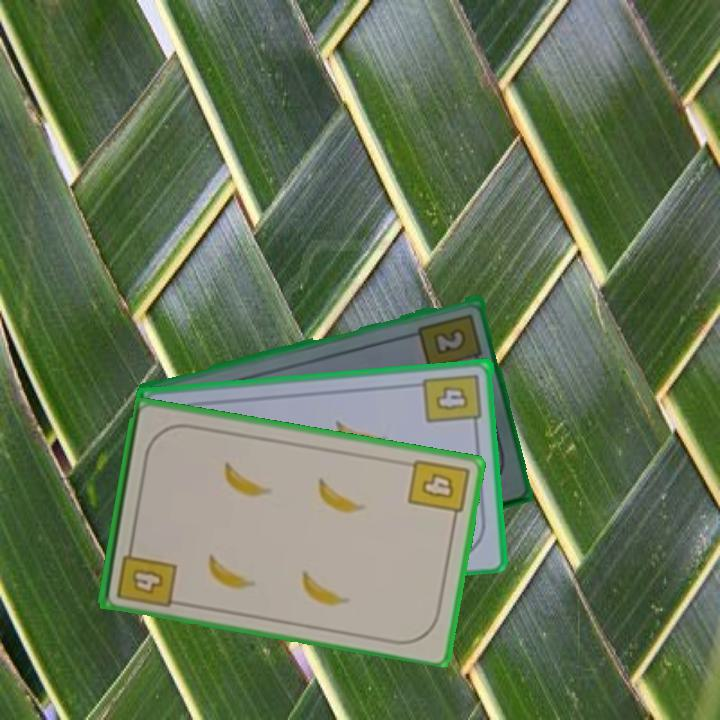2b: (415, 309, 485, 372)
4b: (404, 455, 472, 526), (113, 538, 179, 610), (421, 370, 485, 433)
